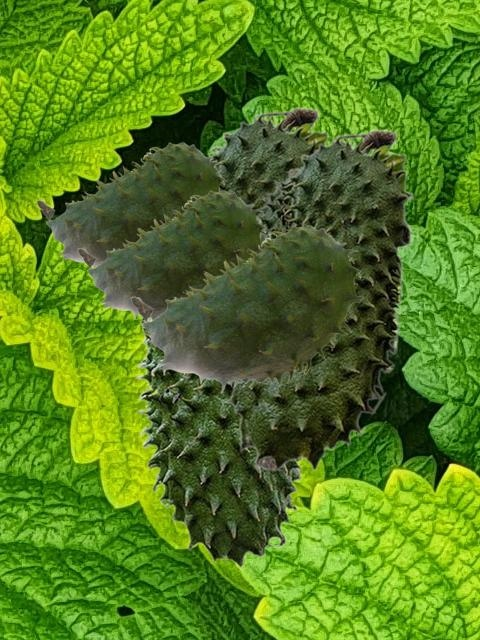guyabano: (224, 128, 413, 471), (146, 106, 331, 382), (135, 316, 305, 567), (130, 225, 363, 393), (77, 190, 267, 320), (36, 142, 226, 267)
